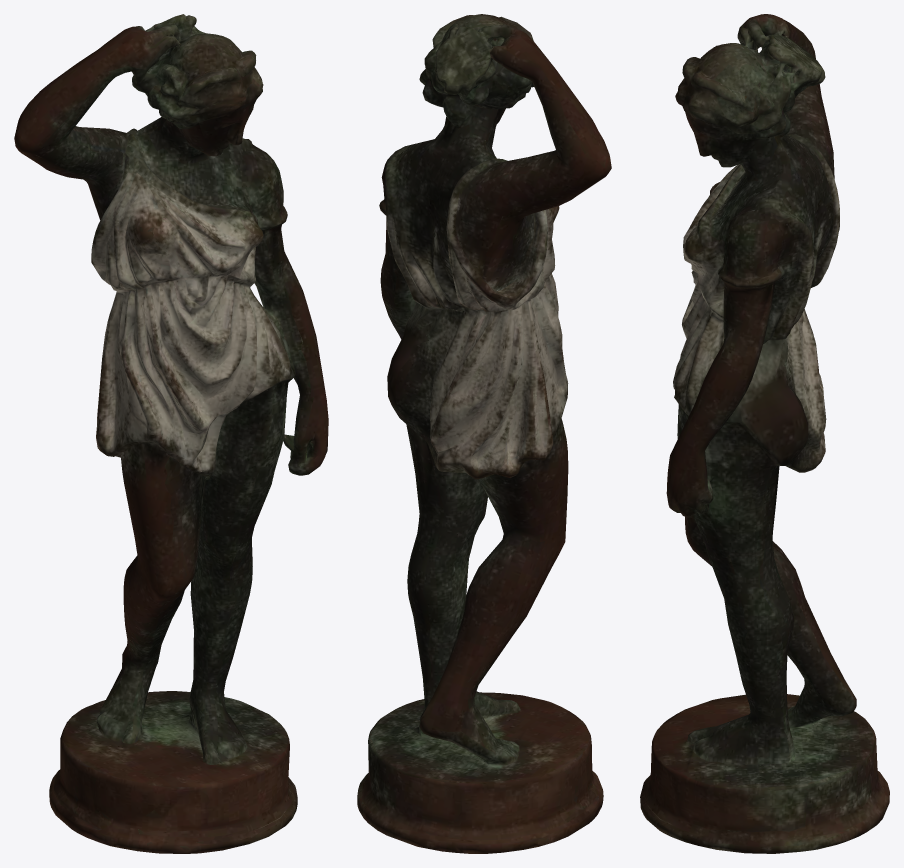
File: baetulo-venus.glb
3 renders of one model, left to right at view 1: azimuth 30°, elevation 25°; view 2: azimuth 150°, elevation 25°; view 3: azimuth 270°, elevation 25°, orthographic.
Visible parts, largest first — view 1: geometry_0; view 2: geometry_0; view 3: geometry_0.
Part boxes in pixels (bbox=[...]): geometry_0: bbox=[14, 14, 328, 853]; geometry_0: bbox=[357, 14, 611, 853]; geometry_0: bbox=[640, 14, 889, 853].
Size of the model in its own units: 0.3477 by 1 by 0.294.
Materials: 1 (1 with a texture image).
